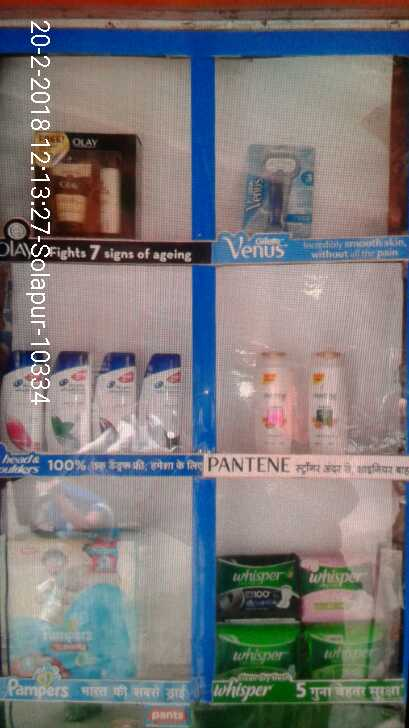venus: (234, 141, 313, 236)
